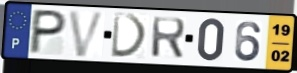0: (195, 17, 227, 63)
6: (235, 20, 263, 63)
D: (110, 11, 150, 59)
P: (26, 8, 69, 56)
R: (150, 15, 188, 60)
V: (66, 9, 108, 58)
